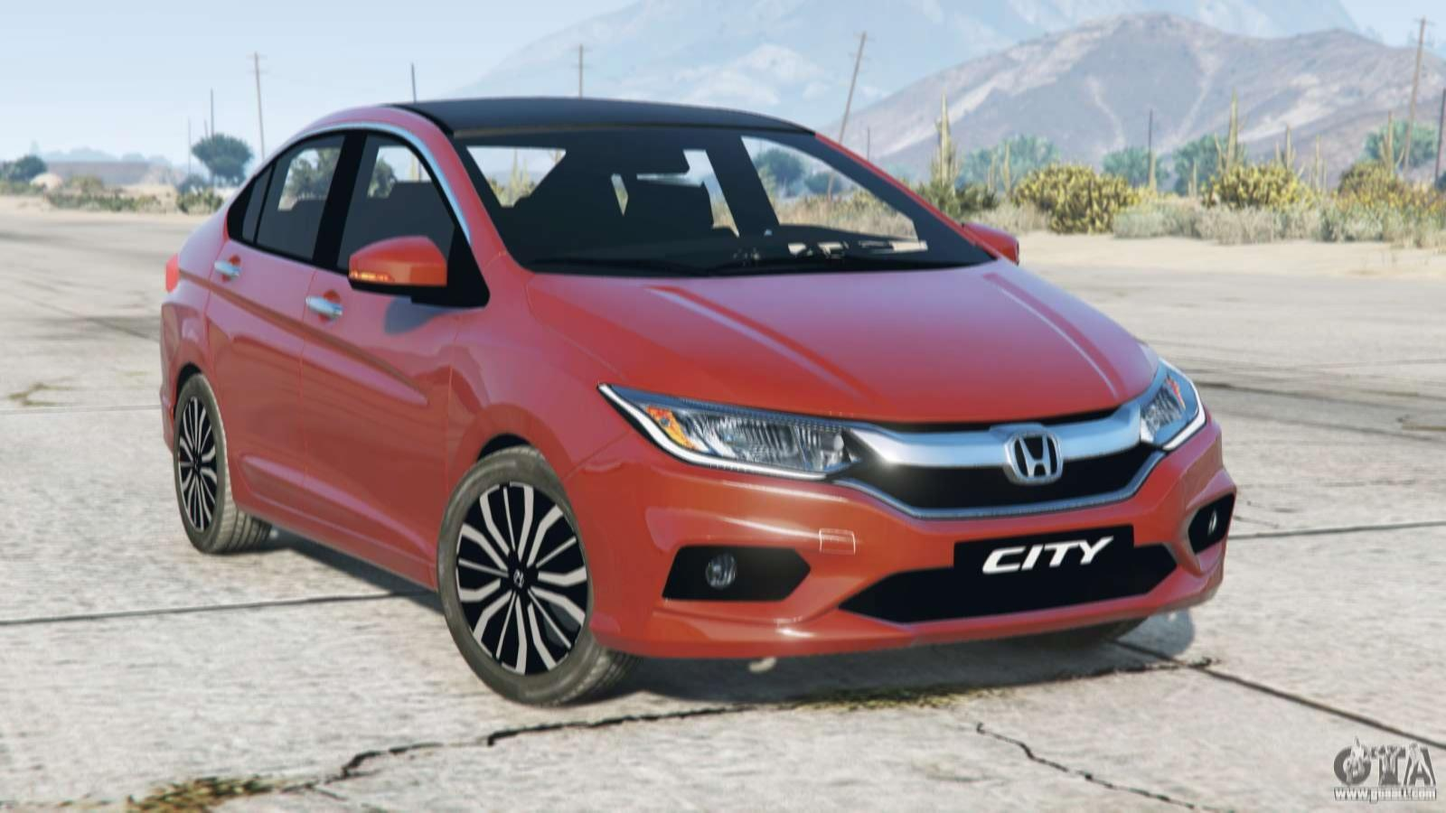Car hood: (520, 258, 1166, 426)
Driver-s door - -F-R-: (304, 116, 446, 572)
Fender - -F-R-: (445, 245, 633, 509)
Fender - -R-R-: (174, 250, 240, 509)
Front bumper: (559, 429, 1243, 669)
Headlight - -L-: (1133, 354, 1213, 460)
Headlight - -R-: (591, 375, 858, 485)
Passenger-s door - -R-R-: (203, 112, 329, 541)
Rear bumper: (152, 368, 190, 478)
Rear light - -R-: (146, 237, 188, 299)
Side bumper - -R-: (220, 470, 446, 601)
Side mirror - -L-: (952, 212, 1028, 270)
Side mirror - -R-: (344, 228, 454, 297)
